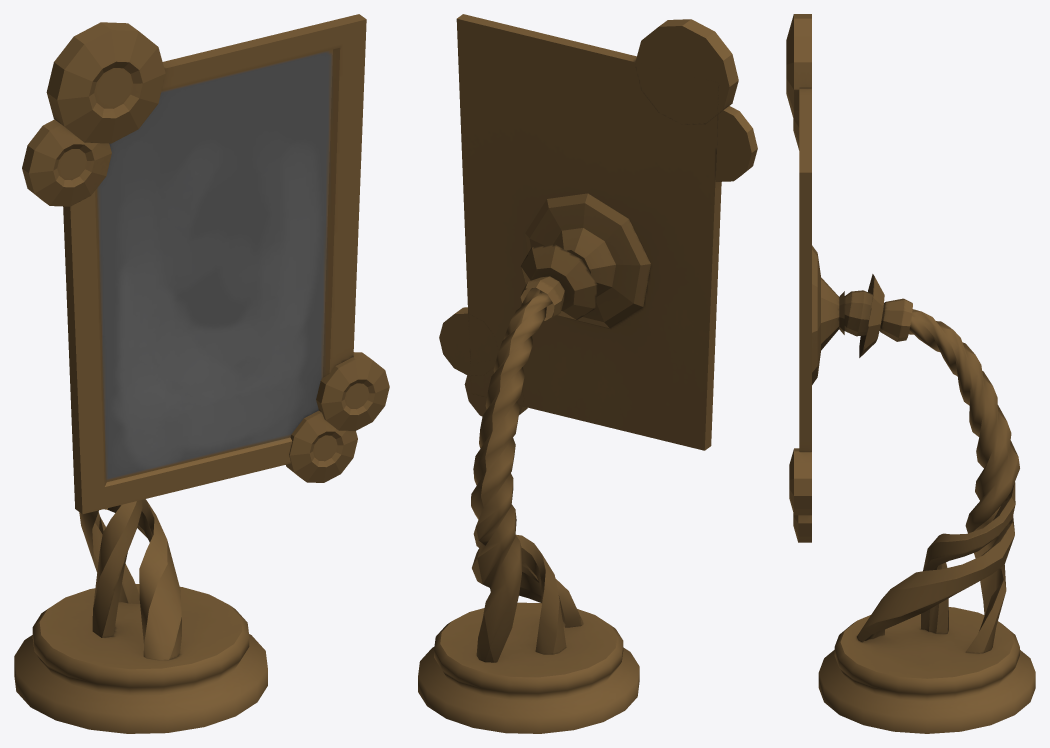
Rendered from mirror.fbx.
3 views of the same model, side by side, from view 1: azimuth 30°, elevation 25°; view 2: azimuth 150°, elevation 25°; view 3: azimuth 270°, elevation 25° (orthographic). The views are drawn at different scales.
Visible parts, largest first — view 1: pCube1, pCylinder5, pCylinder6, pPlane5, pCylinder7, pCylinder8, pCylinder9; view 2: pCube1, pCylinder5, pPlane5, pCylinder4, pCylinder6, pSphere1, pCylinder8, pCylinder7, pCylinder9; view 3: pCylinder5, pPlane5, pCube1, pSphere1, pCylinder4, pCylinder6, pCylinder8, pCylinder9.
Boxes of the visible parts, bbox=[...] form: pCube1: bbox=[63, 14, 366, 514]; pCylinder5: bbox=[14, 584, 267, 733]; pCylinder6: bbox=[46, 22, 165, 143]; pPlane5: bbox=[79, 499, 181, 660]; pCylinder7: bbox=[22, 119, 111, 206]; pCylinder8: bbox=[316, 352, 389, 430]; pCylinder9: bbox=[286, 410, 357, 482]; pCube1: bbox=[456, 14, 721, 450]; pCylinder5: bbox=[418, 602, 639, 733]; pPlane5: bbox=[471, 287, 583, 662]; pCylinder4: bbox=[525, 193, 650, 328]; pCylinder6: bbox=[635, 19, 738, 124]; pSphere1: bbox=[520, 244, 597, 320]; pCylinder8: bbox=[439, 307, 498, 376]; pCylinder7: bbox=[715, 106, 757, 181]; pCylinder9: bbox=[464, 360, 527, 416]; pCylinder5: bbox=[818, 607, 1035, 733]; pPlane5: bbox=[857, 309, 1019, 653]; pCube1: bbox=[799, 87, 811, 451]; pSphere1: bbox=[844, 274, 912, 357]; pCylinder4: bbox=[812, 245, 844, 384]; pCylinder6: bbox=[786, 14, 811, 120]; pCylinder8: bbox=[789, 448, 811, 515]; pCylinder9: bbox=[793, 513, 811, 542].
Size of the model in its own units: 2.78 by 5.44 by 1.97.
